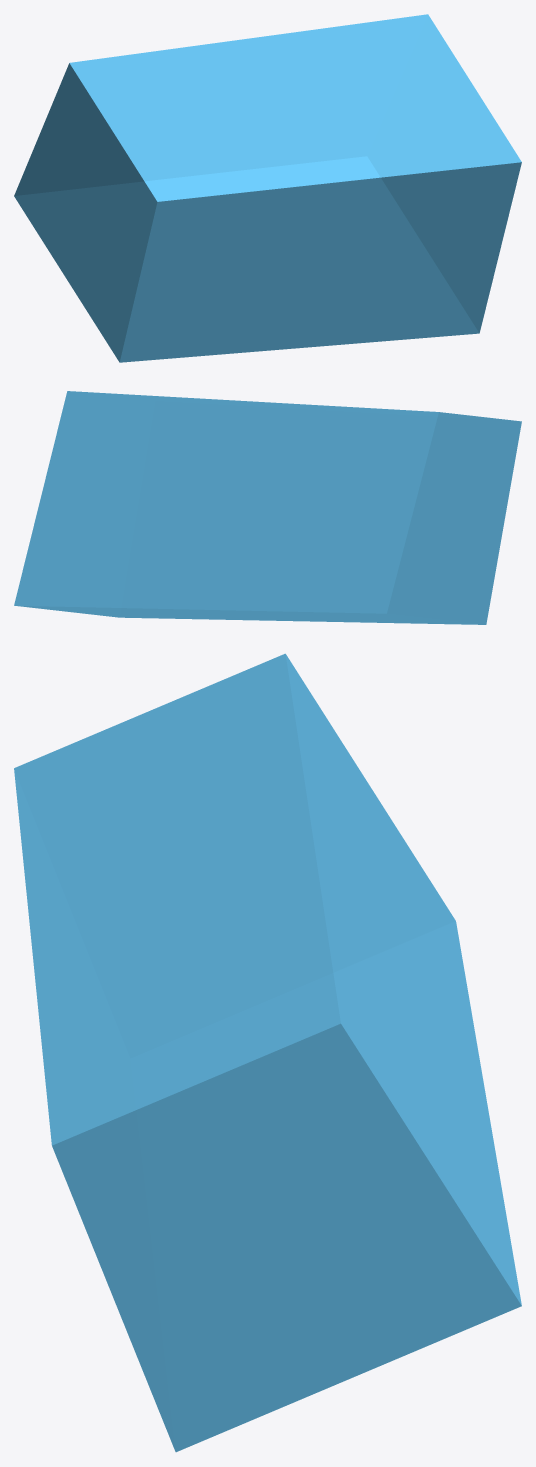
The model's file is Event_420107950_HErechit_21.fbx.
3 renders of one model, top to bottom at view 1: azimuth 30°, elevation 25°; view 2: azimuth 150°, elevation 25°; view 3: azimuth 270°, elevation 25°, orthographic. The views are drawn at different scales.
Visible parts, largest first — view 1: Model; view 2: Model; view 3: Model.
Boxes of the visible parts, x1,y1,x2,y2 form: Model: (14, 14, 521, 362); Model: (14, 391, 521, 624); Model: (14, 653, 521, 1452).
Bounding box in the file's own units: 0.6553 × 0.5584 × 0.4968.
